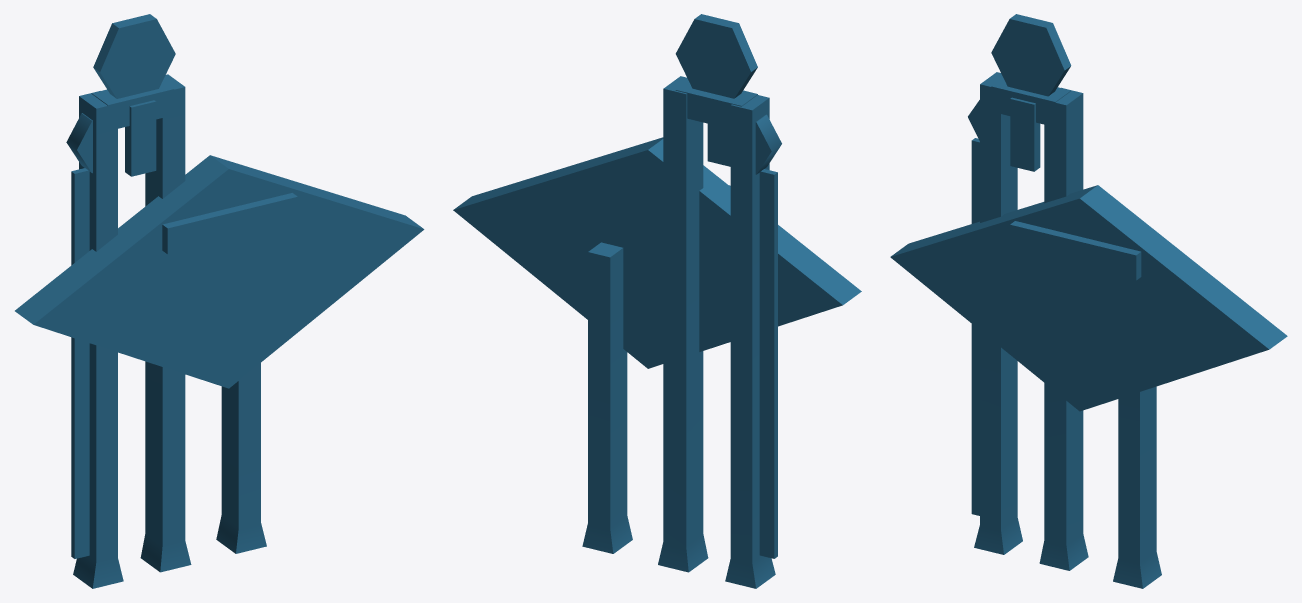
File: SM_Prop_Billboard_02_Collision.fbx
The picture shows the model from 3 angles, left to right: view 1: azimuth 30°, elevation 25°; view 2: azimuth 150°, elevation 25°; view 3: azimuth 330°, elevation 25°; orthographic projection. The views are drawn at different scales.
Visible parts, largest first — view 1: SM_Prop_Billboard_02_Collision; view 2: SM_Prop_Billboard_02_Collision; view 3: SM_Prop_Billboard_02_Collision.
Boxes of the visible parts, <box> form: SM_Prop_Billboard_02_Collision: <box>15,14,424,588</box>; SM_Prop_Billboard_02_Collision: <box>453,14,861,588</box>; SM_Prop_Billboard_02_Collision: <box>890,14,1287,588</box>.
Size of the model in its own units: 1453 by 1950 by 248.
